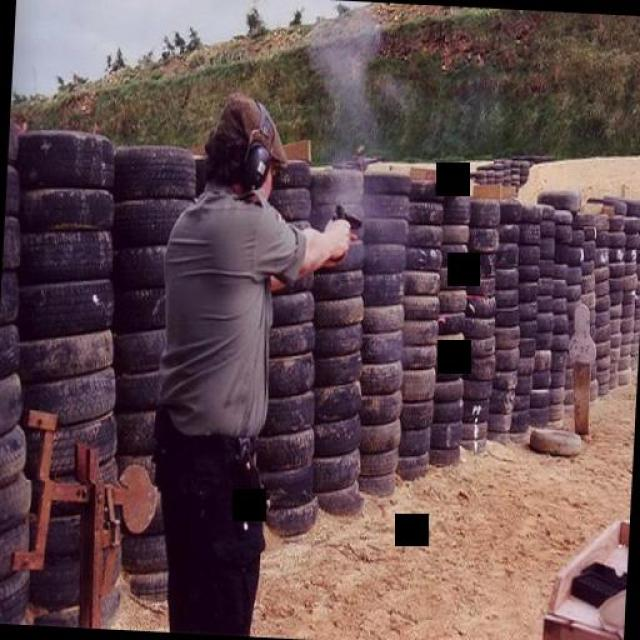gun: (318, 192, 364, 262)
